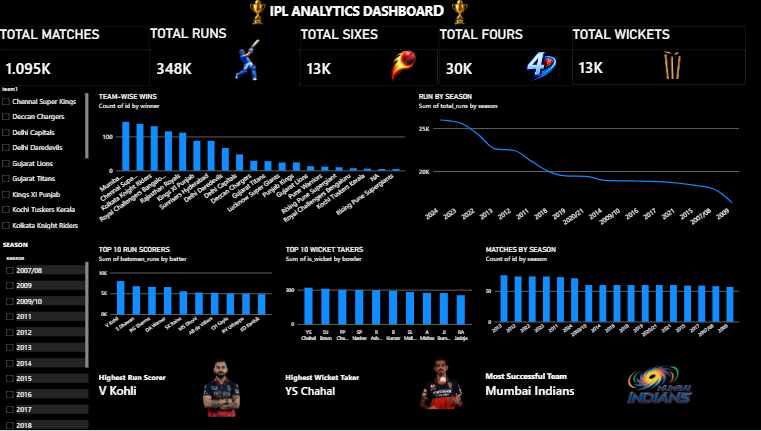

Layout of this report page (visuals, bound fields, positions):
{"tool":"powerbi","page":{"name":"Page 1","canvas":[1920,1080],"ordinal":0},"visuals":[{"type":"textbox","box":[10,0,1870,65],"z":0},{"type":"cardVisual","title":"TOTAL MATCHES","fields":{"Data":["Count(matches.id)"]},"box":[0,65.5,380.5,151.2],"z":1000},{"type":"cardVisual","title":"TOTAL RUNS","fields":{"Data":["Sum(deliveries.total_runs)"]},"box":[380.5,65.5,378,151.2],"z":2000},{"type":"cardVisual","title":"TOTAL SIXES","fields":{"Data":["deliveries.Total Sixes"]},"box":[758.4,65.5,347.7,151.2],"z":3000},{"type":"cardVisual","title":"TOTAL FOURS","fields":{"Data":["deliveries.Total Fours"]},"box":[1106.1,65.5,347.7,151.2],"z":4000},{"type":"cardVisual","title":"TOTAL WICKETS","fields":{"Data":["deliveries.Total Wickets"]},"box":[1441.9,65.4,437.9,148.5],"z":5000},{"type":"lineClusteredColumnComboChart","title":"TEAM-WISE WINS","fields":{"Category":["matches.winner"],"Y":["CountNonNull(matches.id)"]},"box":[234,216.4,805.2,385],"z":7000},{"type":"lineChart","title":"RUN BY SEASON","fields":{"Category":["matches.season"],"Y":["Sum(deliveries.total_runs)"]},"box":[1039.3,216.4,840.5,385],"z":8000},{"type":"lineClusteredColumnComboChart","title":"TOP 10 RUN SCORERS","fields":{"Category":["deliveries.batter"],"Y":["Sum(deliveries.batsman_runs)"]},"box":[235,602.5,470,277.5],"z":9000},{"type":"lineClusteredColumnComboChart","title":"TOP 10 WICKET TAKERS","fields":{"Category":["deliveries.bowler"],"Y":["Sum(deliveries.is_wicket)"]},"box":[705,602.5,502.5,277.5],"z":10000},{"type":"lineClusteredColumnComboChart","title":"MATCHES BY SEASON","fields":{"Category":["matches.season"],"Y":["CountNonNull(matches.id)"]},"box":[1207.9,601.4,671.9,279.3],"z":11000},{"type":"slicer","fields":{"Values":["matches.season"]},"box":[10.1,603.9,215,475],"z":12000},{"type":"slicer","fields":{"Values":["matches.team1"]},"box":[0,217.5,225,367.5],"z":13000},{"type":"image","box":[1560,115,267.5,82.5],"z":13001},{"type":"image","box":[1280,115,162.5,90],"z":13002},{"type":"image","box":[910,115,210,92.5],"z":13003},{"type":"image","box":[478.1,98.1,294.4,108.2],"z":13004},{"type":"image","box":[505,0,290,65],"z":13005},{"type":"image","box":[1015,0,290,65],"z":13006},{"type":"cardVisual","fields":{"Data":["Teams.Highest Run Scorer"]},"box":[235,881,470,177],"z":13007},{"type":"cardVisual","fields":{"Data":["Teams.Highest Wicket Taker"]},"box":[705,881,503,177],"z":13008},{"type":"cardVisual","fields":{"Data":["Teams.Most Successful Team"]},"box":[1207.9,880.7,671.9,176.1],"z":13009},{"type":"image","box":[1525,880,277.5,167.5],"z":13010},{"type":"image","box":[1020,860,187.5,197.5],"z":13011},{"type":"image","box":[470,895,180,152.5],"z":13012}]}

Visuals, with their boxes in screenshot pixels (x1, y1, x2, y2), scaled from the page's 1920x1080 canvas onto the 761x431 screenshot:
textbox: left=4, top=0, right=745, bottom=26
"TOTAL MATCHES" cardVisual: left=0, top=26, right=151, bottom=86
"TOTAL RUNS" cardVisual: left=151, top=26, right=301, bottom=86
"TOTAL SIXES" cardVisual: left=301, top=26, right=438, bottom=86
"TOTAL FOURS" cardVisual: left=438, top=26, right=576, bottom=86
"TOTAL WICKETS" cardVisual: left=572, top=26, right=745, bottom=85
"TEAM-WISE WINS" lineClusteredColumnComboChart: left=93, top=86, right=412, bottom=240
"RUN BY SEASON" lineChart: left=412, top=86, right=745, bottom=240
"TOP 10 RUN SCORERS" lineClusteredColumnComboChart: left=93, top=240, right=279, bottom=351
"TOP 10 WICKET TAKERS" lineClusteredColumnComboChart: left=279, top=240, right=479, bottom=351
"MATCHES BY SEASON" lineClusteredColumnComboChart: left=479, top=240, right=745, bottom=351
slicer - matches.season: left=4, top=241, right=89, bottom=430
slicer - matches.team1: left=0, top=87, right=89, bottom=233
image: left=618, top=46, right=724, bottom=79
image: left=507, top=46, right=572, bottom=82
image: left=361, top=46, right=444, bottom=83
image: left=189, top=39, right=306, bottom=82
image: left=200, top=0, right=315, bottom=26
image: left=402, top=0, right=517, bottom=26
cardVisual - Teams.Highest Run Scorer: left=93, top=352, right=279, bottom=422
cardVisual - Teams.Highest Wicket Taker: left=279, top=352, right=479, bottom=422
cardVisual - Teams.Most Successful Team: left=479, top=351, right=745, bottom=422
image: left=604, top=351, right=714, bottom=418
image: left=404, top=343, right=479, bottom=422
image: left=186, top=357, right=258, bottom=418
